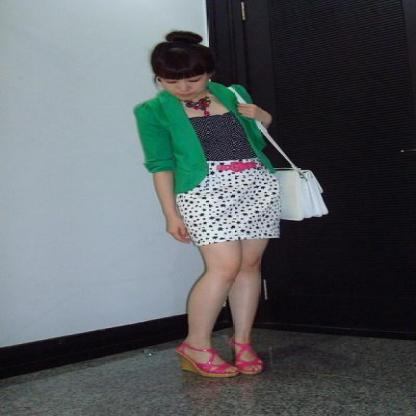bag: (265, 142, 327, 220)
jacket: (134, 82, 291, 194)
shirt: (189, 108, 255, 158)
shoe: (175, 341, 261, 377)
skirt: (177, 158, 294, 245)
